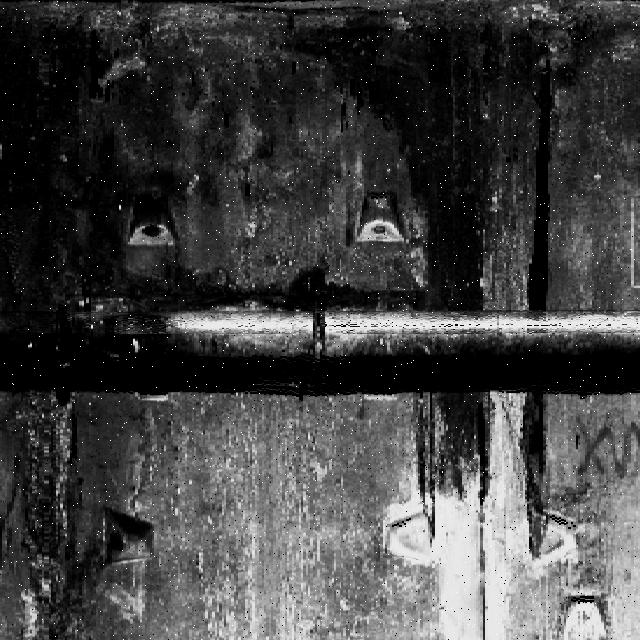leakage: (286, 19, 510, 310), (2, 384, 164, 639), (397, 380, 507, 533), (518, 48, 567, 311), (520, 387, 560, 565)
